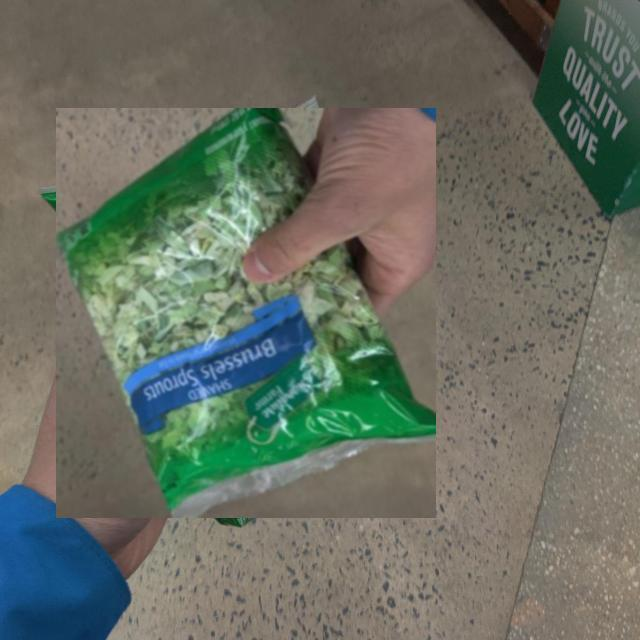Lettuce: (56, 109, 436, 519)
